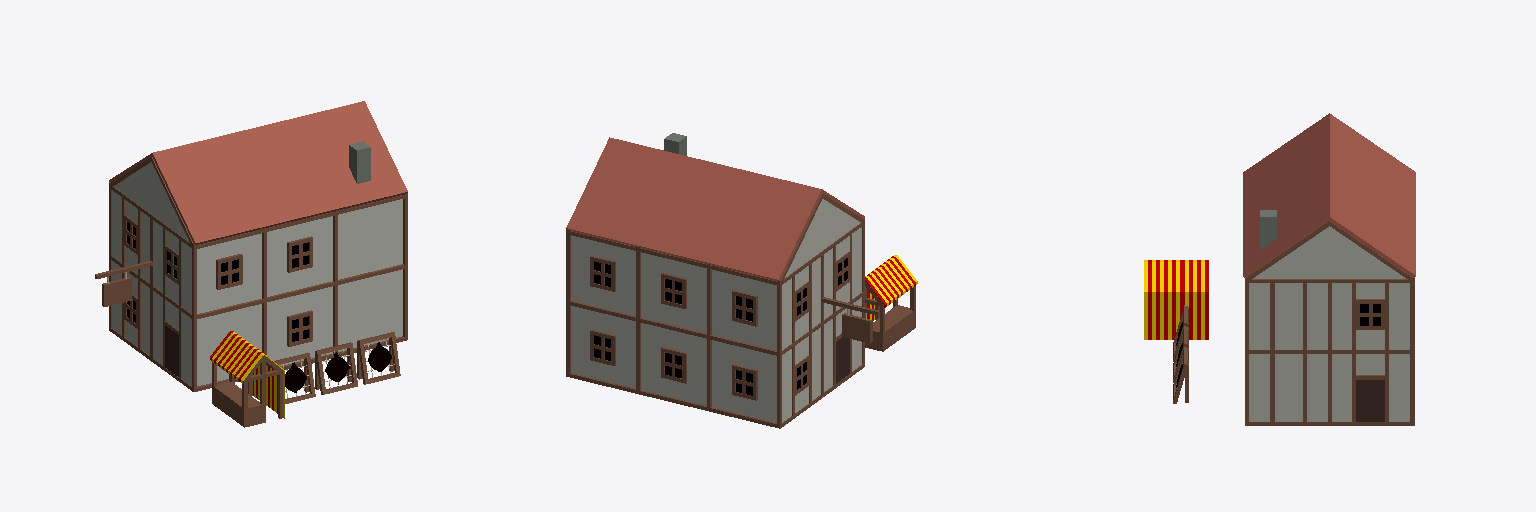
Rendered from timberframedtanner_red_yellow.obj.
The picture shows the model from 3 angles: view 1: azimuth 30°, elevation 25°; view 2: azimuth 150°, elevation 25°; view 3: azimuth 270°, elevation 25°; orthographic projection.
Parts seen in each view (by area): view 1: Cube.005, Cube.007_Cube.011, Cylinder.001_Cylinder.008, Cylinder.003_Cylinder.001, Cylinder.004_Cylinder.009, Cube.011_Cube.015, Cube.018_Cube.016, Cube.056_Cube.081, Cube.001_Cube.058, Cube.013_Cube.080, Cube.006_Cube.010, Cube.026_Cube.019 (+7 smaller); view 2: Cube.005, Cube.007_Cube.011, Cube.023_Cube.026, Cube.022_Cube.025, Cube.021_Cube.024, Cube.015_Cube.020, Cube.019_Cube.022, Cube.017_Cube.021, Cube.014_Cube.018, Cube.008, Cube.020_Cube.023, Cube.073_Cube.078 (+6 smaller); view 3: Cube.005, Cube.007_Cube.011, Cube.147_Cube.153, Cube.003, Cube.033, Cube.027, Cube.047_Cube.049, Cube.016_Cube.013, Cube.031, Cube.006_Cube.010, Cube.032, Cylinder.001_Cylinder.008 (+5 smaller).
Part boxes in pixels (left/top/right/bottom): Cube.005: left=112, top=162, right=402, bottom=385; Cube.007_Cube.011: left=109, top=101, right=407, bottom=244; Cylinder.001_Cylinder.008: left=357, top=332, right=400, bottom=384; Cylinder.003_Cylinder.001: left=315, top=342, right=357, bottom=394; Cylinder.004_Cylinder.009: left=274, top=353, right=315, bottom=403; Cube.011_Cube.015: left=195, top=264, right=406, bottom=319; Cube.018_Cube.016: left=195, top=195, right=406, bottom=249; Cube.056_Cube.081: left=216, top=254, right=242, bottom=289; Cube.001_Cube.058: left=287, top=310, right=312, bottom=346; Cube.013_Cube.080: left=287, top=236, right=312, bottom=272; Cube.006_Cube.010: left=349, top=141, right=370, bottom=183; Cube.026_Cube.019: left=192, top=243, right=196, bottom=391; Cube.005: left=571, top=199, right=861, bottom=422; Cube.007_Cube.011: left=566, top=137, right=864, bottom=280; Cube.023_Cube.026: left=567, top=373, right=779, bottom=427; Cube.022_Cube.025: left=567, top=301, right=776, bottom=355; Cube.021_Cube.024: left=567, top=231, right=777, bottom=284; Cube.015_Cube.020: left=732, top=290, right=757, bottom=326; Cube.019_Cube.022: left=661, top=347, right=686, bottom=383; Cube.017_Cube.021: left=590, top=330, right=615, bottom=365; Cube.014_Cube.018: left=661, top=273, right=686, bottom=308; Cube.008: left=590, top=255, right=615, bottom=291; Cube.020_Cube.023: left=732, top=364, right=757, bottom=400; Cube.073_Cube.078: left=842, top=313, right=872, bottom=343; Cube.005: left=1249, top=226, right=1409, bottom=421; Cube.007_Cube.011: left=1243, top=113, right=1415, bottom=277; Cube.147_Cube.153: left=1144, top=292, right=1208, bottom=339; Cube.003: left=1356, top=380, right=1384, bottom=421; Cube.033: left=1356, top=299, right=1384, bottom=329; Cube.027: left=1410, top=277, right=1414, bottom=425; Cube.047_Cube.049: left=1270, top=279, right=1274, bottom=423; Cube.016_Cube.013: left=1248, top=350, right=1410, bottom=353; Cube.031: left=1248, top=422, right=1410, bottom=425; Cube.006_Cube.010: left=1260, top=210, right=1276, bottom=249; Cube.032: left=1248, top=279, right=1410, bottom=282; Cylinder.001_Cylinder.008: left=1173, top=347, right=1188, bottom=403.
Size of the model in its own units: 15.3 by 11.25 by 13.34.